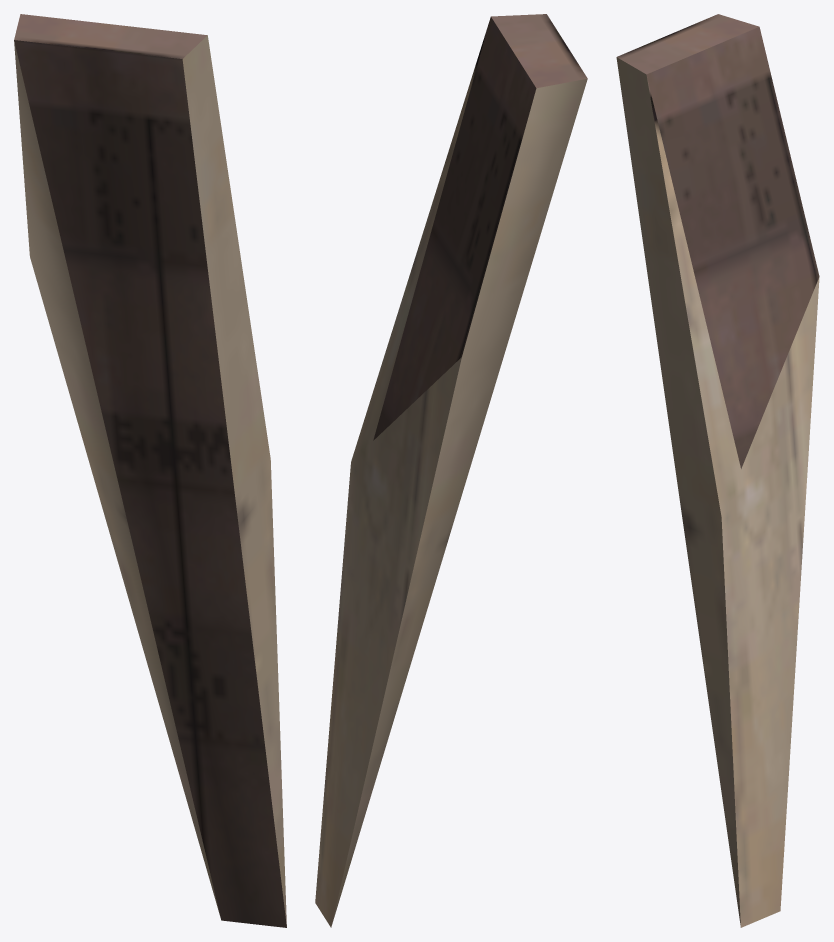
The model's file is wooden_barrel_chunk03.glb.
3 renders of one model, left to right at view 1: azimuth 30°, elevation 25°; view 2: azimuth 150°, elevation 25°; view 3: azimuth 270°, elevation 25°, orthographic. The views are drawn at different scales.
Visible parts, largest first — view 1: wooden_barrel_chunk03; view 2: wooden_barrel_chunk03; view 3: wooden_barrel_chunk03.
Boxes of the visible parts, box(x1,y1,x2,y2) form: wooden_barrel_chunk03: box(14, 14, 286, 927); wooden_barrel_chunk03: box(315, 14, 587, 927); wooden_barrel_chunk03: box(616, 14, 819, 927).
Bounding box in the file's own units: 0.1771 × 0.5714 × 0.1317.
Materials: 1 (1 with a texture image).
